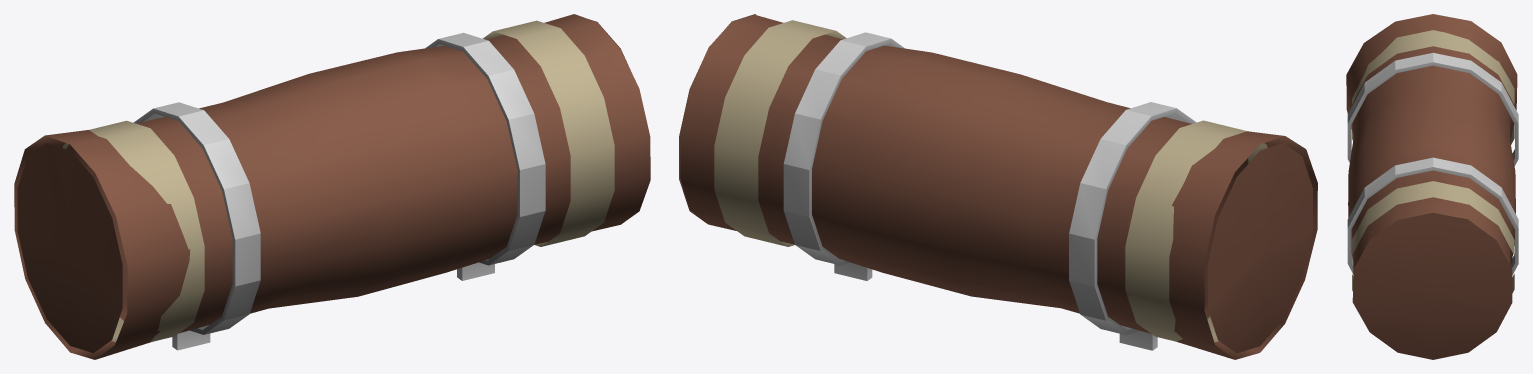
Rendered from bedroll_rolled.glb.
3 views of the same model, side by side, from view 1: azimuth 30°, elevation 25°; view 2: azimuth 150°, elevation 25°; view 3: azimuth 270°, elevation 25° (orthographic). The views are drawn at different scales.
Parts seen in each view (by area): view 1: bedroll_rolled; view 2: bedroll_rolled; view 3: bedroll_rolled.
Boxes of the visible parts, x1,y1,x2,y2 form: bedroll_rolled: (14,14,650,359); bedroll_rolled: (679,14,1317,359); bedroll_rolled: (1346,14,1518,359).
Size of the model in its own units: 0.728 by 0.3018 by 0.2699.
